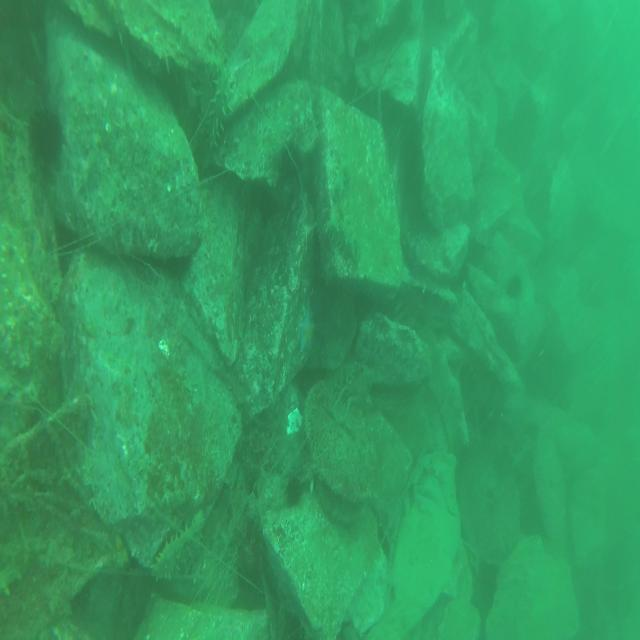echinus: (23, 105, 70, 173), (277, 142, 304, 190), (502, 268, 526, 307), (284, 469, 305, 510)
holothurian: (146, 510, 207, 587), (206, 58, 238, 159), (324, 212, 362, 270)
starfish: (297, 304, 318, 360)
